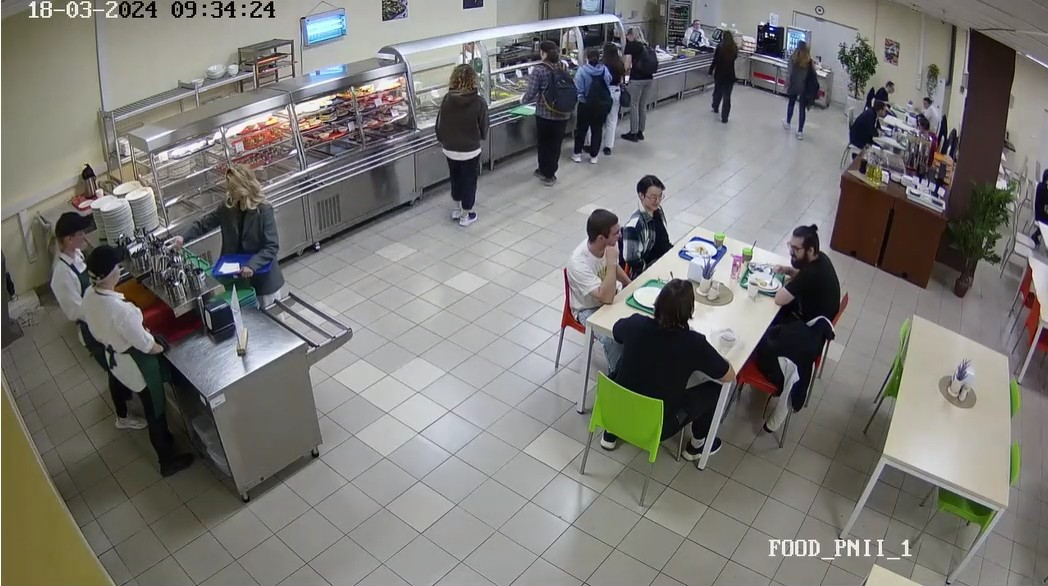Na_Kasse: (700, 32, 739, 122)
Ne_v_Ocheredi: (783, 39, 817, 131), (1015, 159, 1048, 253)
Personal: (77, 255, 187, 474), (52, 209, 134, 427), (464, 41, 492, 66), (681, 17, 700, 43)
Vybiraet: (176, 165, 292, 314), (439, 62, 496, 225), (525, 38, 566, 181), (571, 45, 607, 171), (623, 28, 647, 137), (601, 38, 620, 155)
Za_Stolom: (566, 291, 735, 482), (561, 210, 630, 345), (767, 211, 835, 312), (632, 171, 681, 247), (853, 97, 889, 156), (907, 118, 951, 149), (874, 80, 897, 112), (917, 92, 944, 117)
